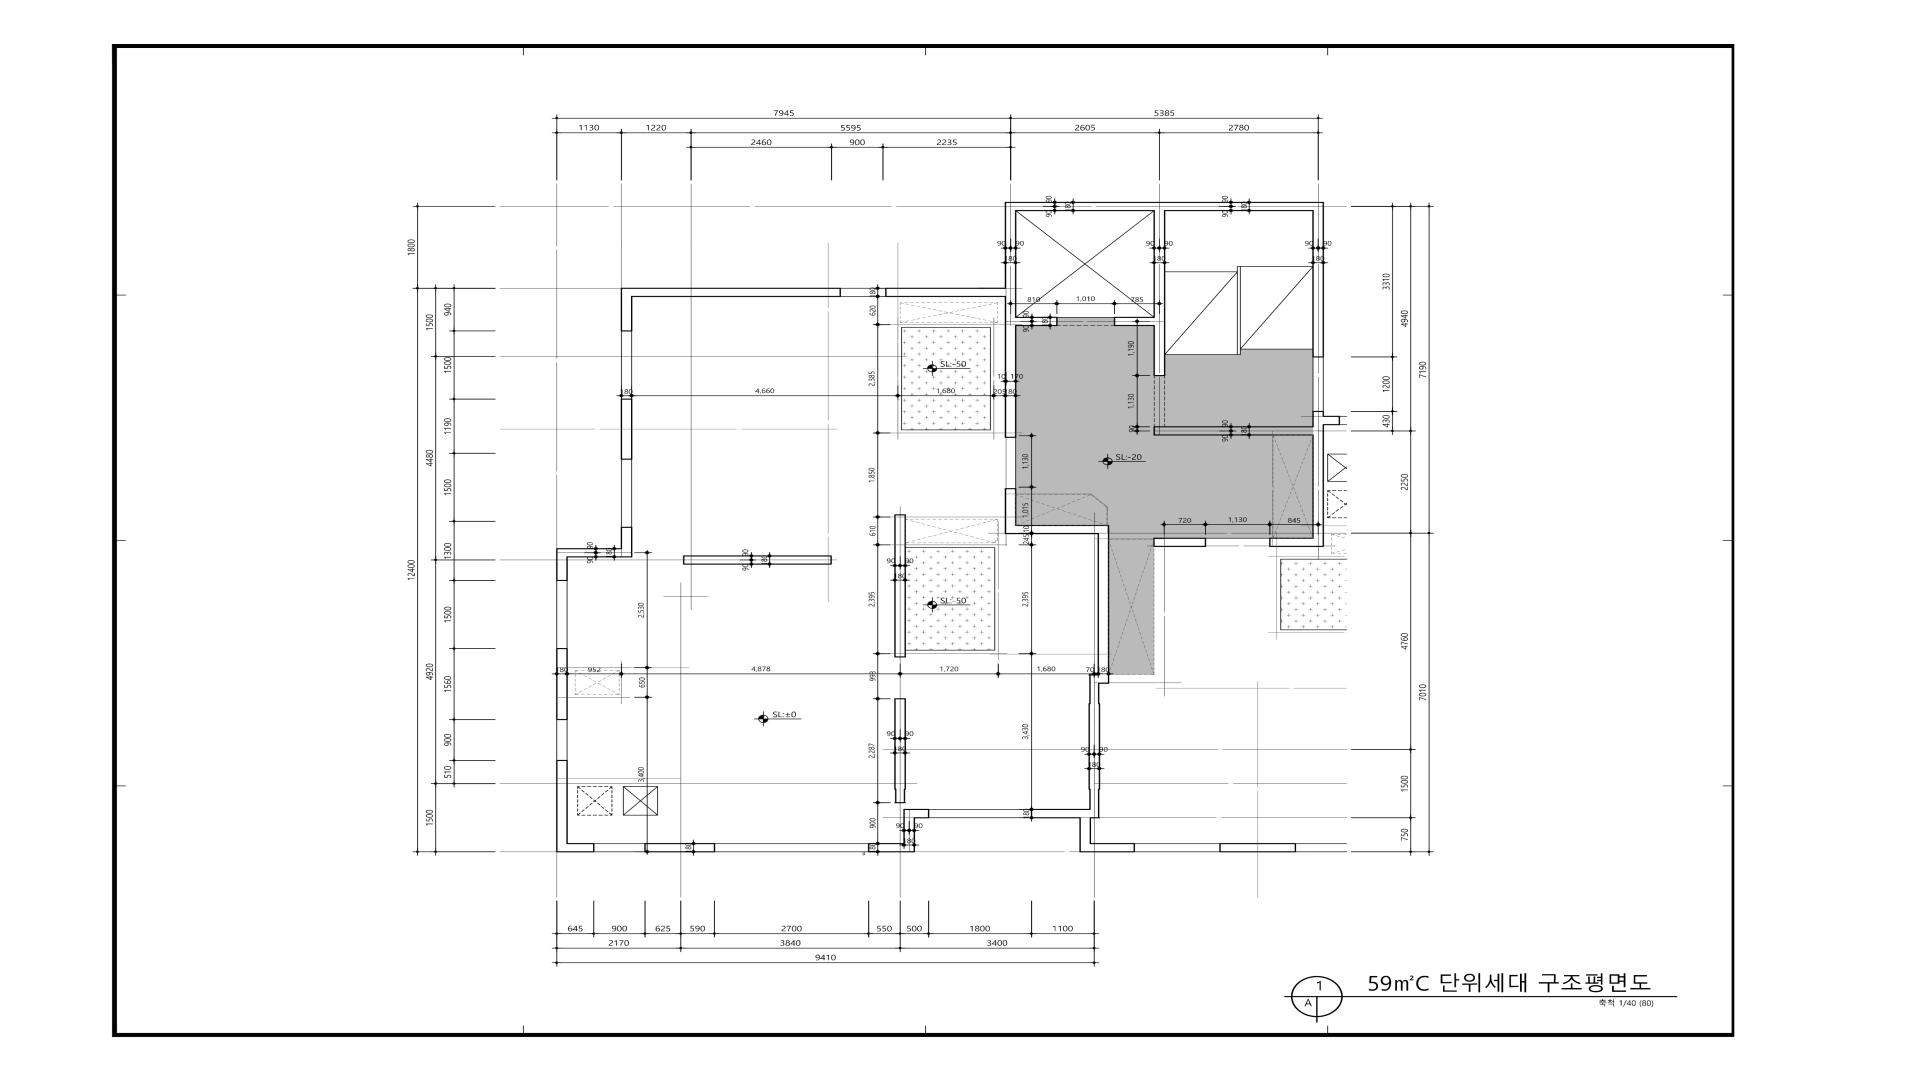wall: (632, 288, 841, 297), (1312, 211, 1324, 357), (894, 514, 906, 657), (1097, 534, 1109, 674), (1154, 426, 1312, 436), (683, 555, 832, 565), (1165, 202, 1324, 211), (1153, 202, 1165, 316), (1005, 202, 1016, 326), (1016, 202, 1153, 211), (1005, 326, 1016, 438), (1312, 436, 1324, 538), (1089, 703, 1100, 809), (894, 698, 906, 790), (885, 288, 1005, 297), (556, 760, 568, 843), (1005, 525, 1109, 534), (556, 648, 568, 720), (1220, 843, 1296, 852), (621, 399, 632, 460), (645, 843, 715, 852), (556, 548, 621, 557), (1154, 326, 1165, 376), (1114, 316, 1165, 326), (1079, 843, 1135, 852), (1269, 538, 1324, 547), (1031, 809, 1080, 819), (1153, 538, 1206, 547), (621, 288, 632, 331), (868, 843, 915, 852), (903, 809, 915, 843), (1005, 488, 1016, 525), (1016, 317, 1058, 326), (556, 843, 594, 852), (621, 527, 632, 557), (1079, 818, 1091, 843), (1312, 411, 1324, 436), (556, 557, 568, 581), (1089, 673, 1109, 684), (1089, 684, 1099, 703), (1080, 809, 1100, 818), (1324, 416, 1340, 425), (895, 789, 905, 803), (915, 809, 929, 818)
